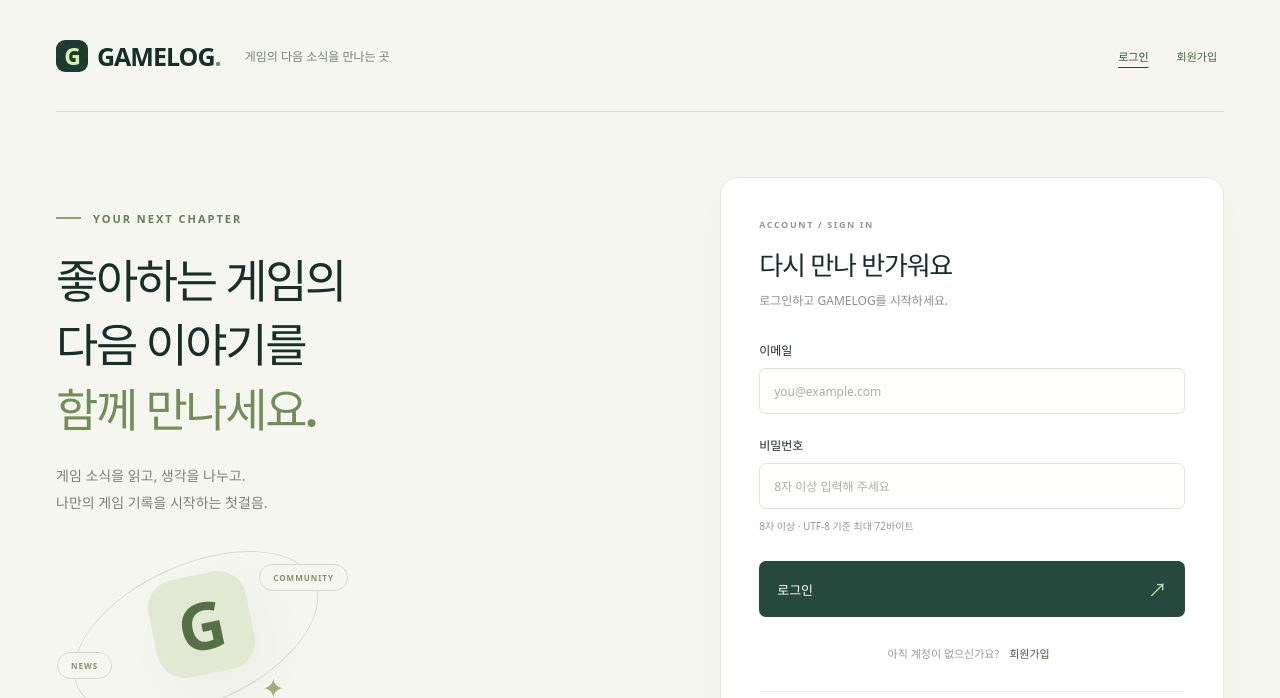
Test: authentication user flows › 토큰만탭에보관하고서버정보확인후로그아웃한다
Step 1. Type "member@example.com" into the field labelled "이메일" → x=972, y=391, box [759,368,1185,414]
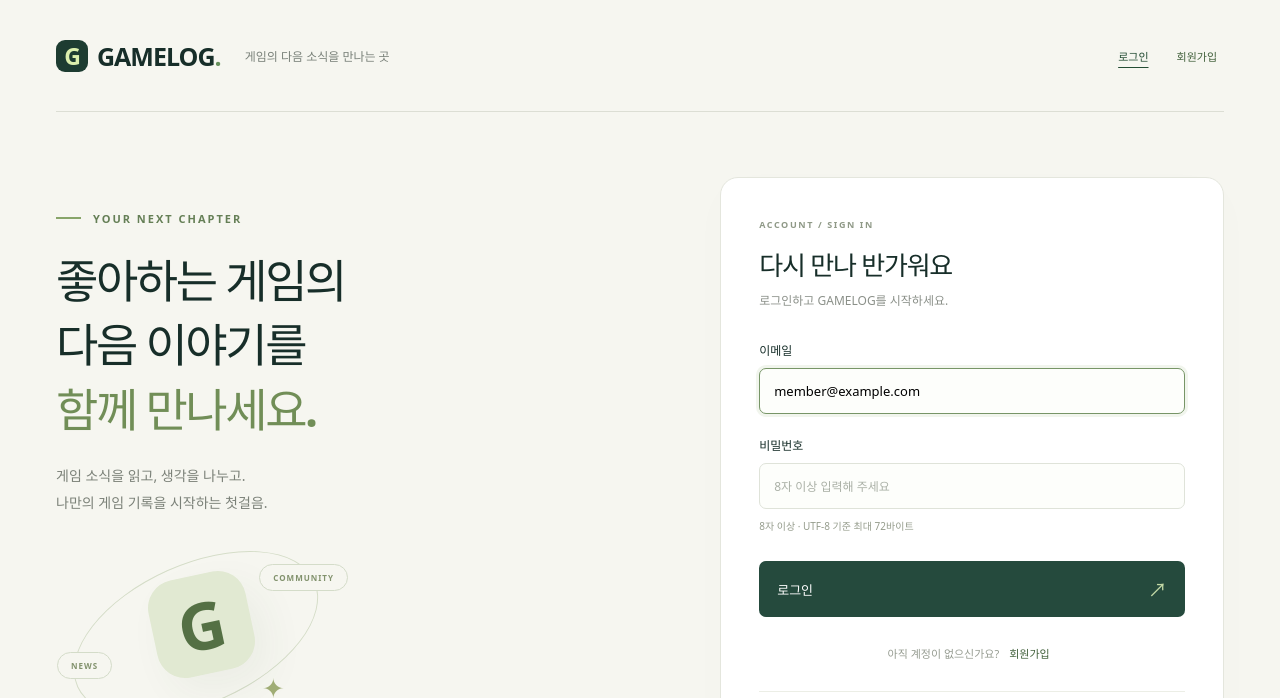
Step 2. Type "valid-password" into the password field labelled "비밀번호" → x=972, y=486, box [759,463,1185,509]
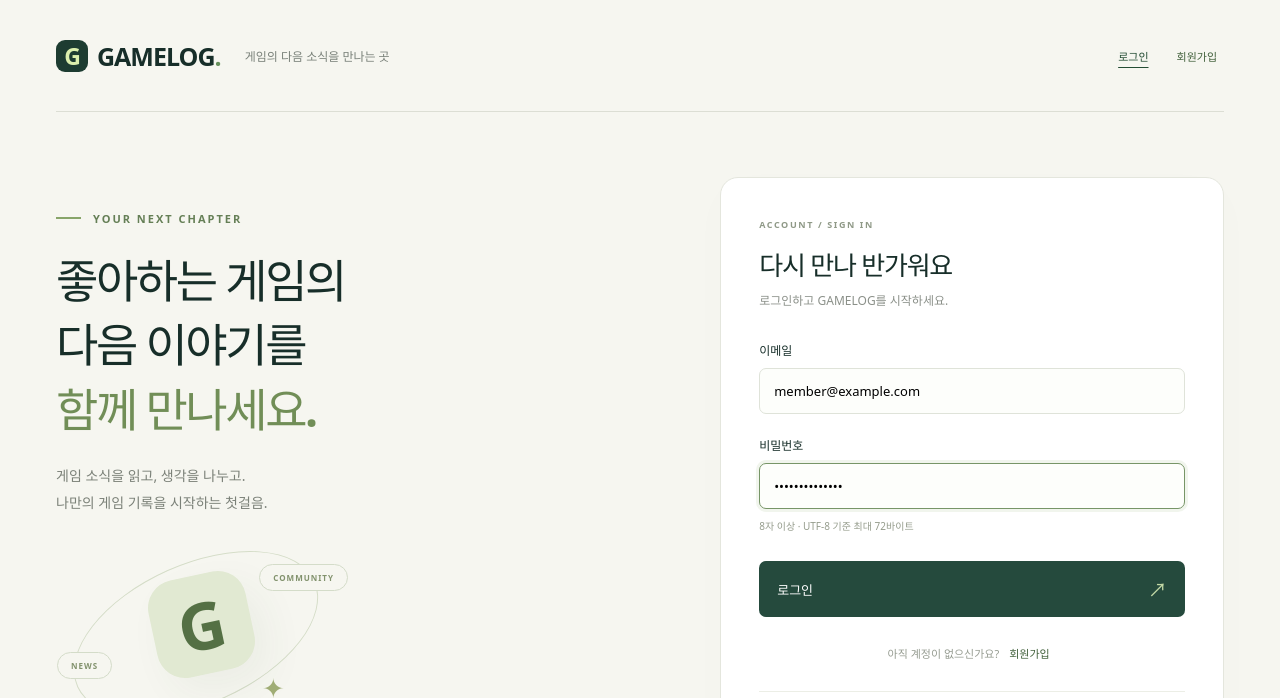
Step 3. Click the button "로그인 ↗" → x=795, y=590, box [759,561,1185,617]
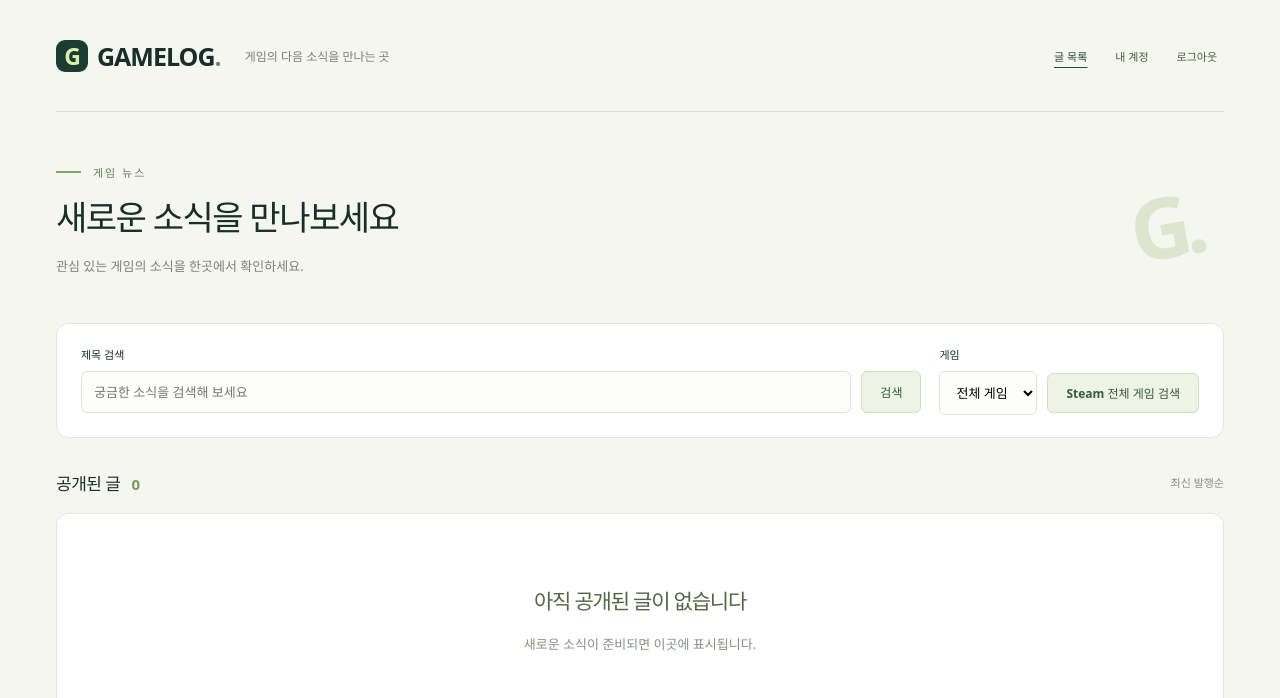
Result: the heading "새로운 소식을 만나보세요" is shown at [56,194,398,242]
Result: the heading "아직 공개된 글이 없습니다" is shown at [534,587,746,615]
Step 4. Click the link "내 계정" → x=1132, y=56, box [1115,48,1148,64]
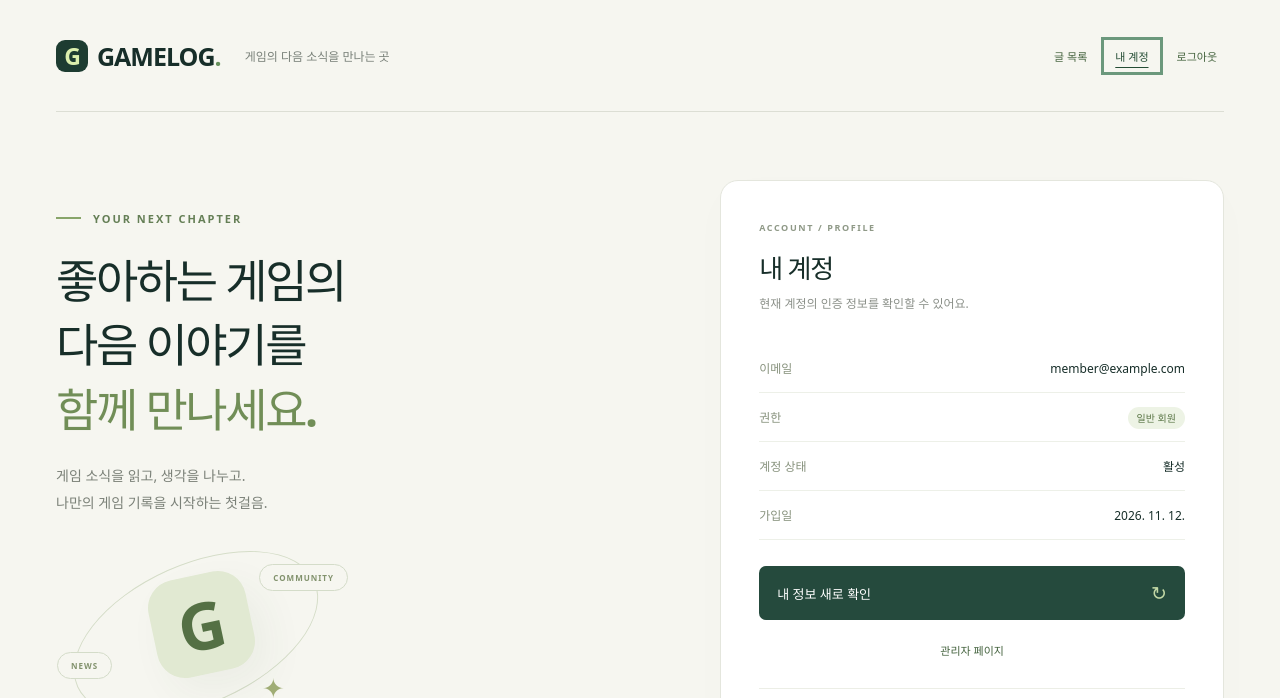
Result: the heading "내 계정" is shown at [759,250,833,286]
Step 5. Click the button "내 정보 새로 확인 ↻" → x=824, y=594, box [759,566,1185,620]
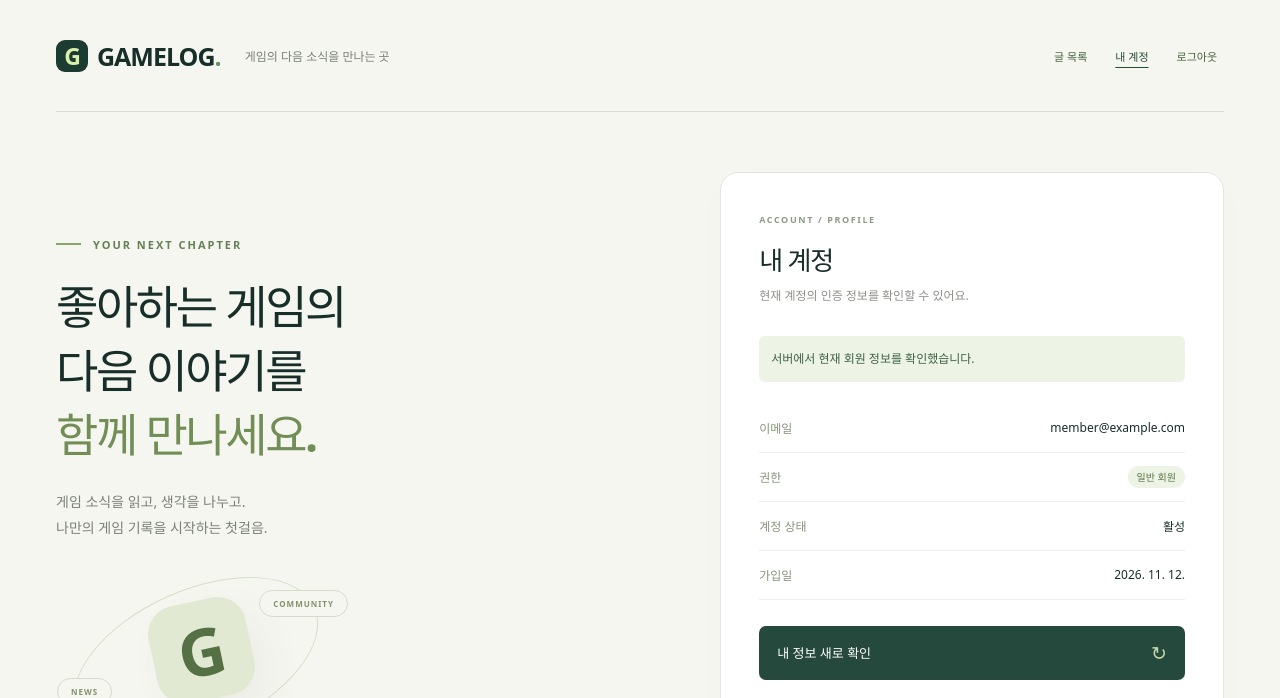
Result: the message shows "서버에서 현재 회원 정보" at [771,350,975,367]
Step 6. Click the button "로그아웃" → x=1197, y=56, box [1170,44,1224,68]
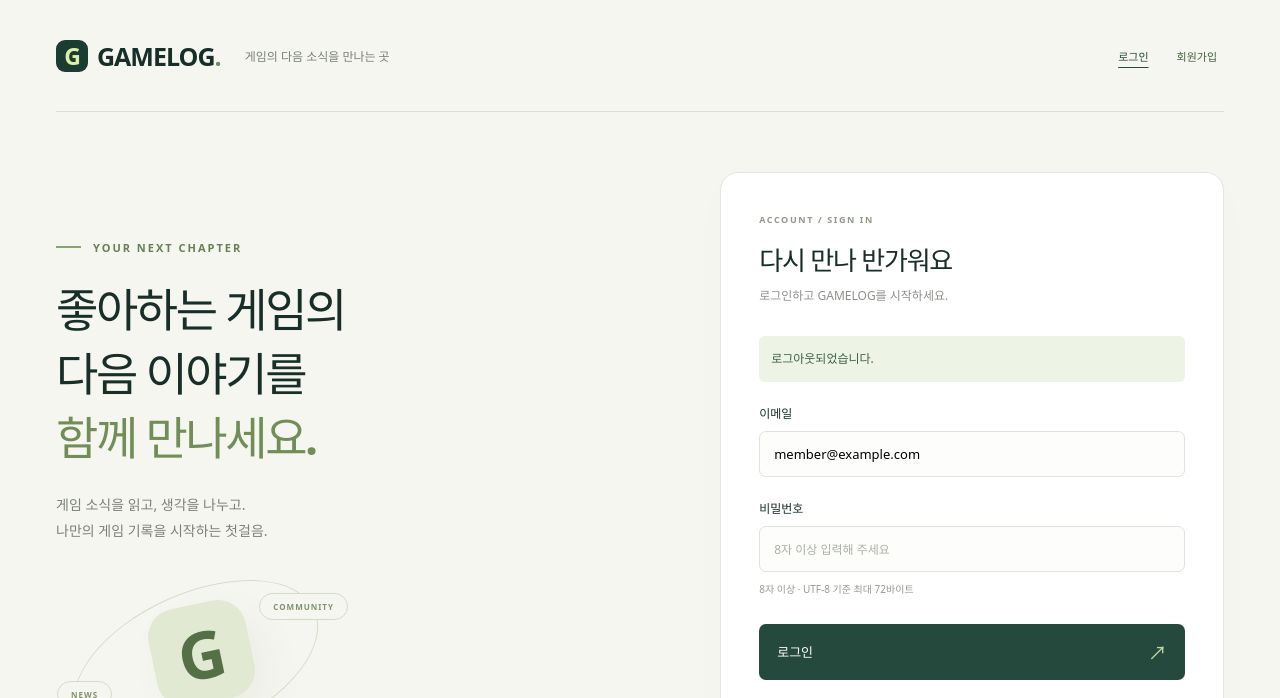
Result: the button "로그인 ↗" is shown at [759,624,1185,680]
